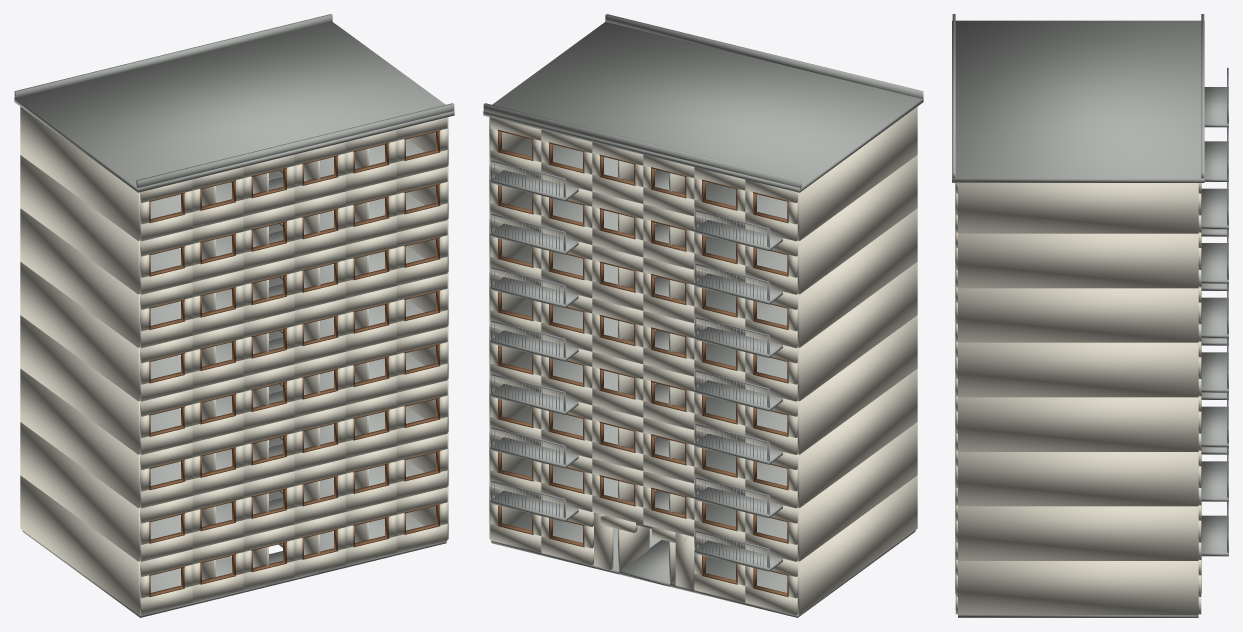
Rendered from hlm_8floors_v1_repaired.glb.
3 renders of one model, left to right at view 1: azimuth 30°, elevation 25°; view 2: azimuth 150°, elevation 25°; view 3: azimuth 270°, elevation 25°, orthographic. The views are drawn at different scales.
Parts seen in each view (by area): view 1: SM_hlm_8floors_v1; view 2: SM_hlm_8floors_v1; view 3: SM_hlm_8floors_v1.
Part boxes in pixels (x1=…): SM_hlm_8floors_v1: x1=14, y1=14, x2=454, y2=617; SM_hlm_8floors_v1: x1=483, y1=14, x2=923, y2=617; SM_hlm_8floors_v1: x1=952, y1=14, x2=1228, y2=617.
Size of the model in its own units: 18.6 by 24.7 by 13.8.
